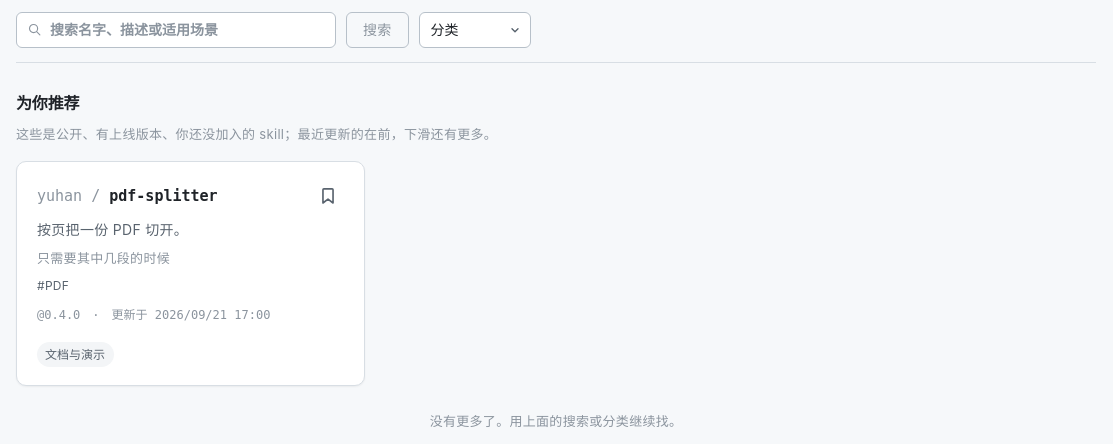
joining › posts the join, keeps the card in place, and reads as 我加入的
The image size is (1113, 444).
Click the button with class "result-join".
click(328, 196)  # box [312, 180, 344, 212]
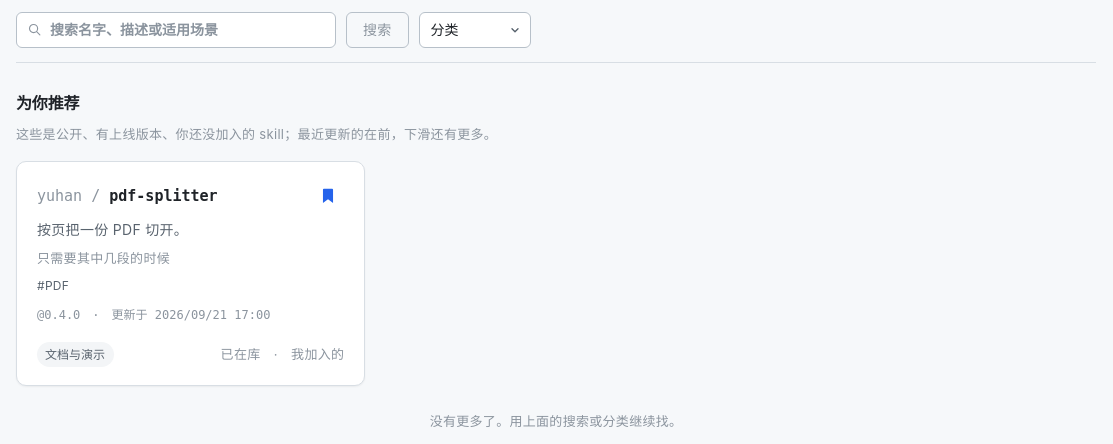
Expected: the number of list items with class "result" is 1, [16, 161, 365, 386]
Now the text with class "result-in" reads "已在库 · 我加入的", box [221, 346, 344, 362]
